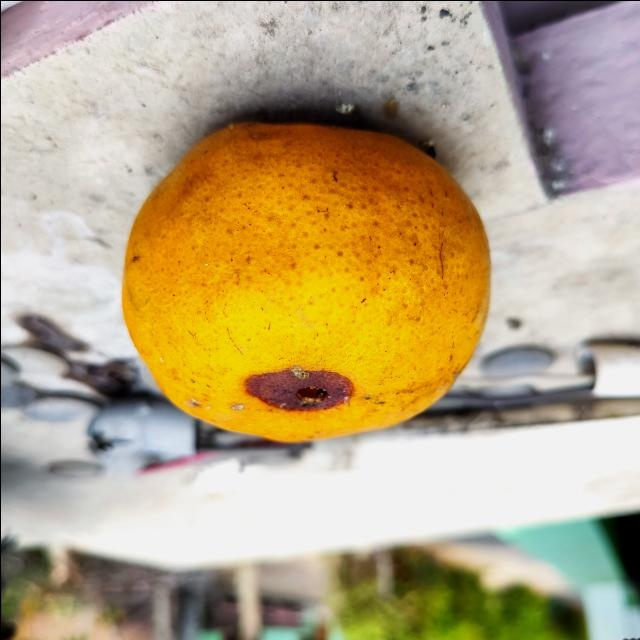agrume: (116, 116, 491, 444)
